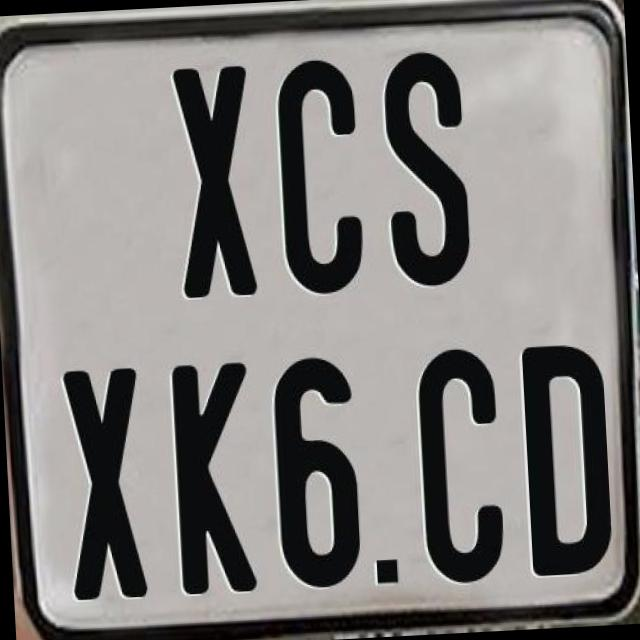6: (271, 354, 366, 591)
C: (414, 348, 511, 586), (273, 58, 363, 300)
D: (520, 344, 620, 576)
K: (172, 360, 262, 601)
S: (379, 46, 472, 284)
X: (63, 363, 154, 596), (172, 62, 258, 296)
